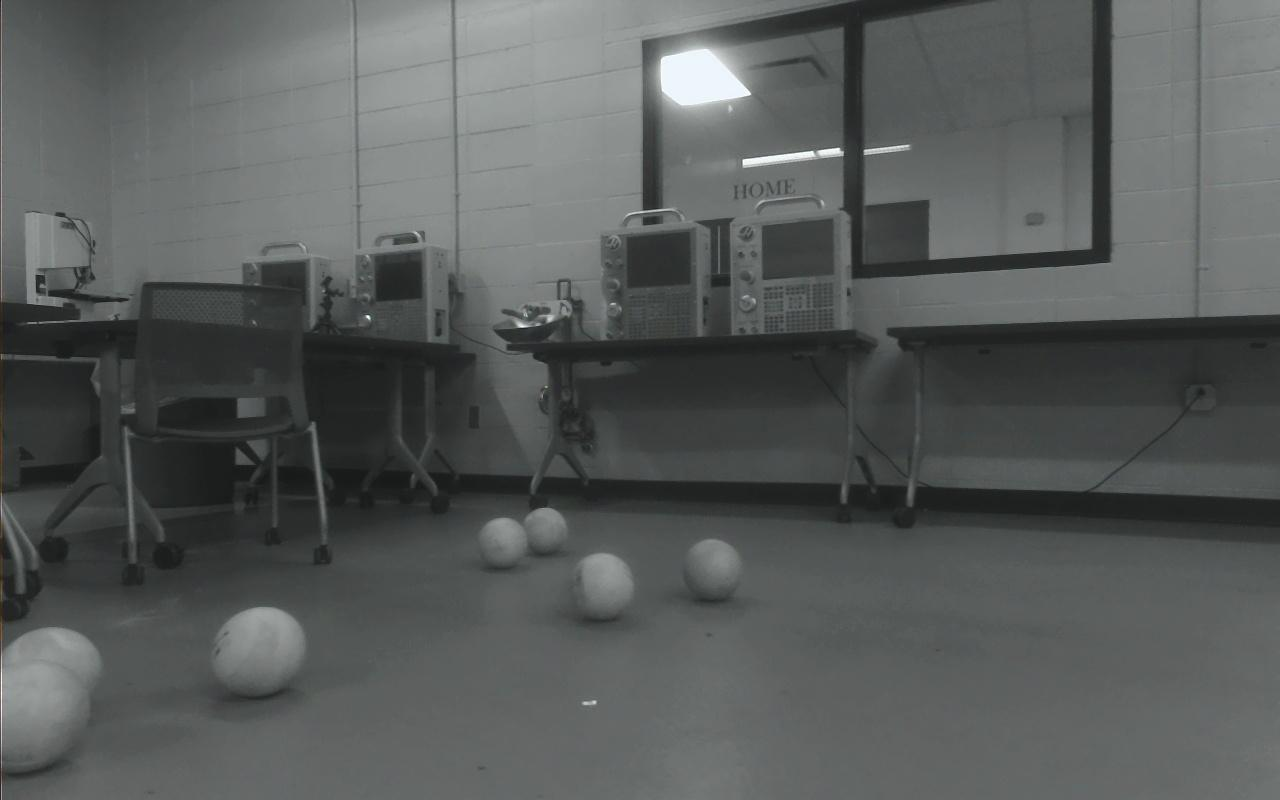Fuel: (0, 657, 90, 774), (0, 625, 105, 715), (211, 606, 306, 697), (571, 553, 635, 620), (682, 539, 742, 601), (477, 517, 529, 569), (524, 508, 568, 555)
